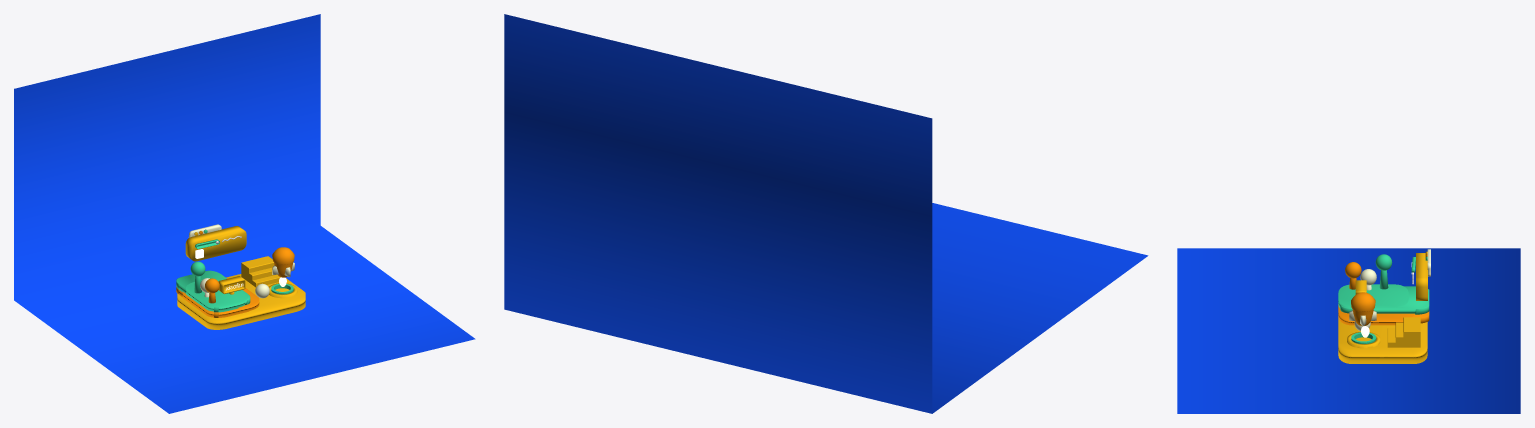
3 renders of one model, left to right at view 1: azimuth 30°, elevation 25°; view 2: azimuth 150°, elevation 25°; view 3: azimuth 270°, elevation 25°, orthographic. The views are drawn at different scales.
Visible parts, largest first — view 1: Plane, Cube, Cube.009, Cube.002, Cube.008, Cube.001, Cylinder.007, Cube.014; view 2: Plane; view 3: Plane, Cube, Cube.002, Cube.008, Cube.014, Cylinder.007, Cube.001, Cube.009.
Boxes of the visible parts, x1,y1,x2,y2 form: Plane: [14, 14, 475, 413]; Cube: [177, 274, 305, 329]; Cube.009: [185, 226, 246, 261]; Cube.002: [186, 277, 248, 312]; Cube.008: [241, 256, 280, 287]; Cube.001: [182, 278, 259, 317]; Cylinder.007: [272, 247, 294, 277]; Cube.014: [176, 270, 250, 312]; Plane: [504, 14, 1148, 413]; Plane: [1177, 248, 1520, 413]; Cube: [1338, 317, 1427, 363]; Cube.002: [1338, 284, 1408, 308]; Cube.008: [1387, 317, 1420, 347]; Cube.014: [1340, 286, 1429, 314]; Cylinder.007: [1351, 292, 1375, 325]; Cube.001: [1338, 305, 1414, 325]; Cube.009: [1416, 253, 1427, 300].
Size of what is drawn, in the model's own units: 31.27 by 20.63 by 27.38.
